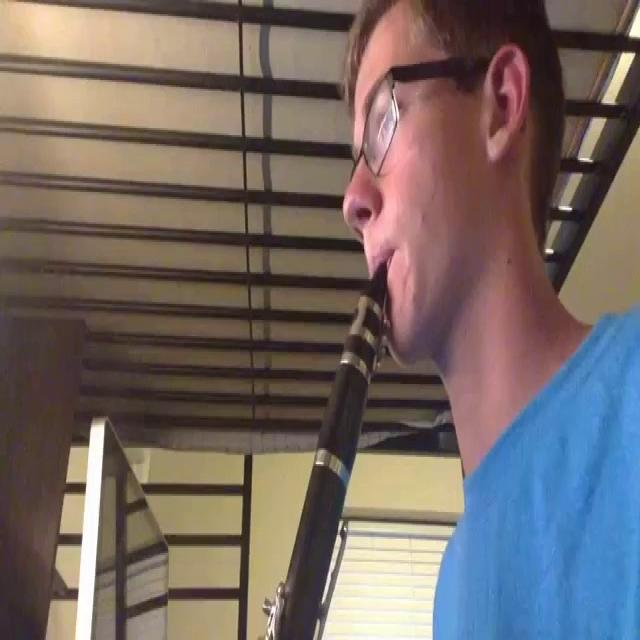Clarinet: (253, 253, 408, 640)
